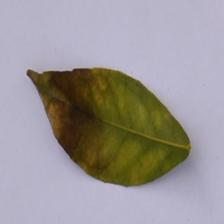black spot: (25, 58, 117, 151)
